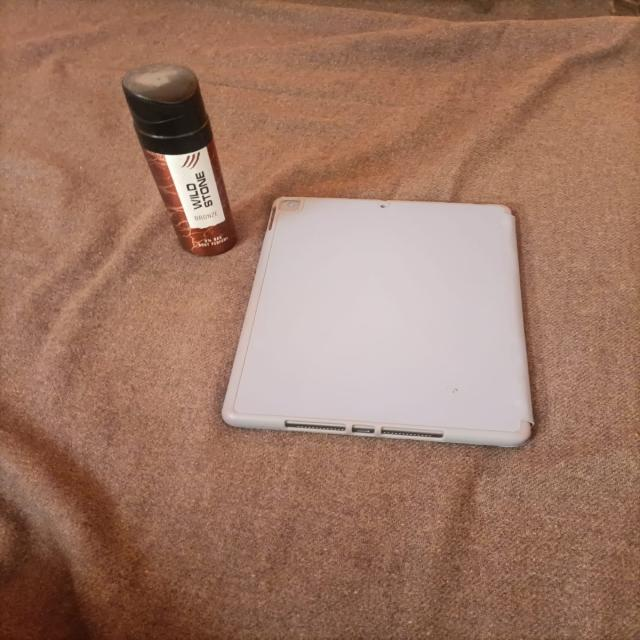spray: (103, 59, 250, 277)
tablet: (221, 196, 550, 469)
